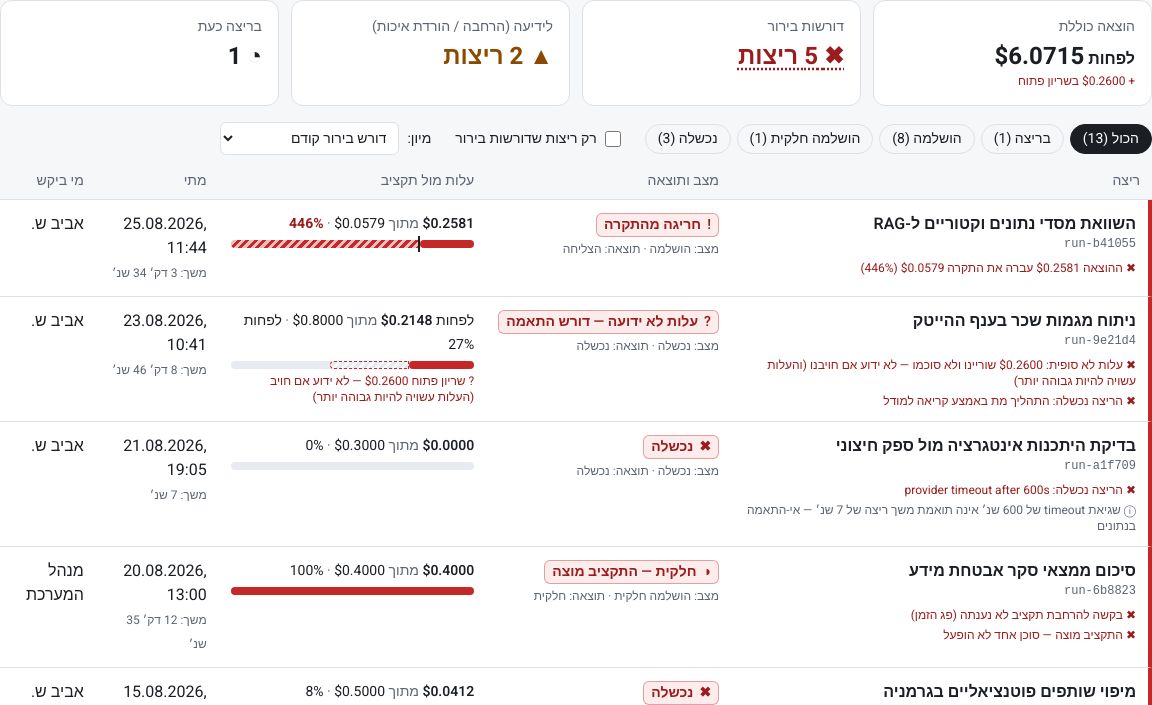
<RunsTable /> › labels the section with an always-present heading, even when the filter is empty
The image size is (1152, 705).
Click the button "בריצה (1)": (1022, 138) [981,124,1064,154]
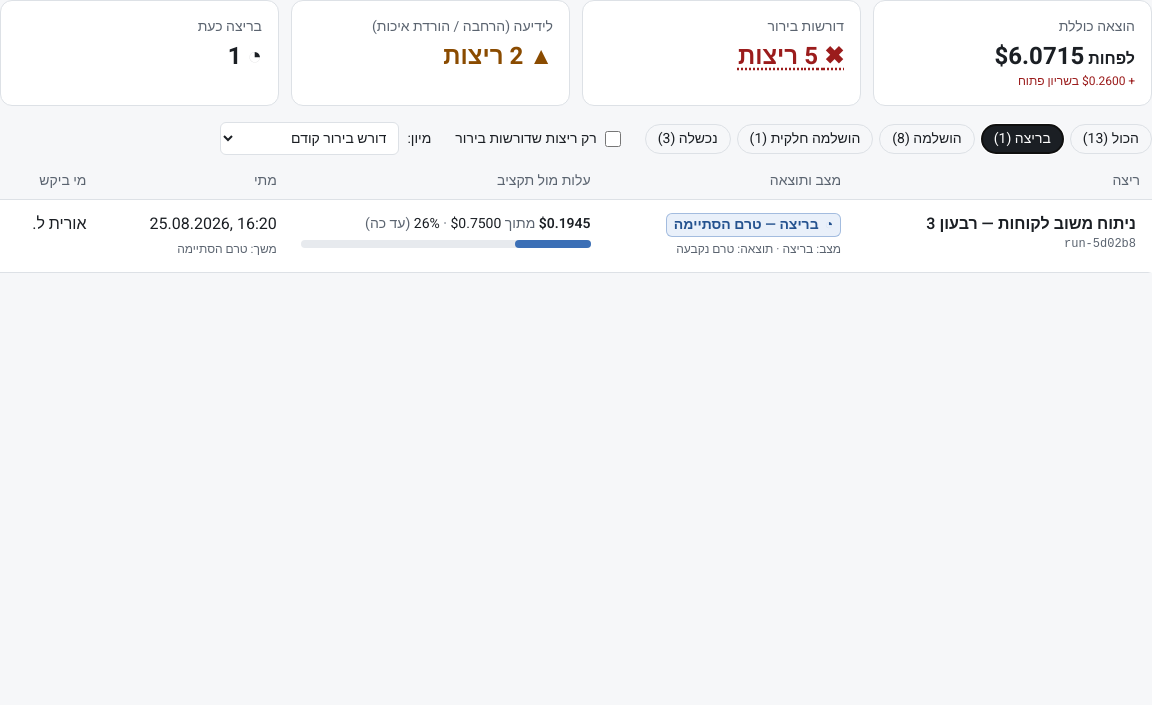
Click the checkbox labelled "רק ריצות שדורשות בירור": (613, 138) [605,130,621,146]
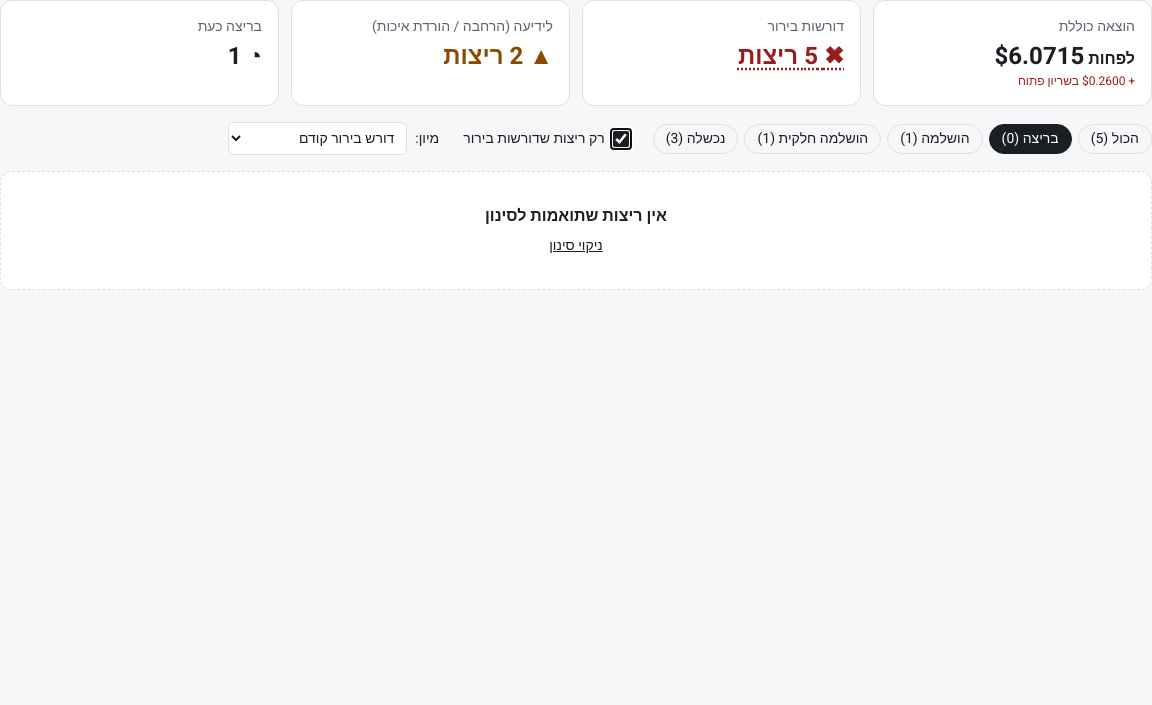
expect the element named "רשימת הריצות" is shown: met, box [0,0,1151,290]
expect the text "אין ריצות שתואמות לסינון" is shown: met, box [485,204,667,228]
